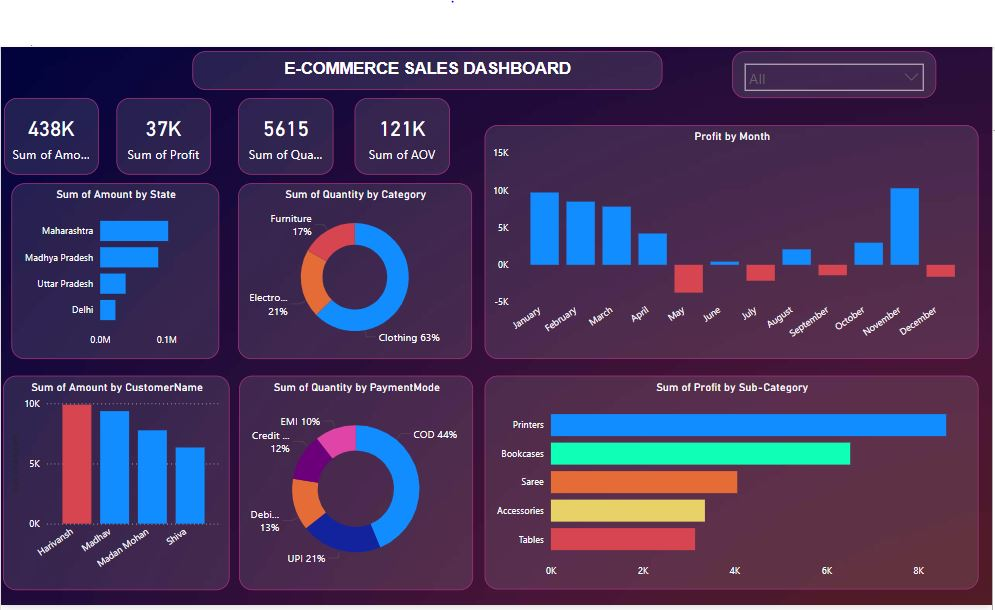

What the dashboard file says about the page in this screenshot:
{"tool":"powerbi","page":{"name":"Page 1","canvas":[1280,720],"ordinal":0},"visuals":[{"type":"columnChart","title":"Profit by Month","fields":{"Y":["Sum(Details.Profit)1"],"Category":["Orders.Order Date.Variation.Date Hierarchy.Month"]},"box":[624.2,100.7,637.6,302],"z":0},{"type":"barChart","fields":{"Category":["Details.Sub-Category"],"Y":["Details.Profit"]},"box":[623.9,424.1,637.5,276.4],"z":1000},{"type":"donutChart","fields":{"Y":["Details.Quantity"],"Category":["Details.PaymentMode"]},"box":[307.4,424.2,302,276.5],"z":2000},{"type":"donutChart","fields":{"Category":["Details.Category"],"Y":["Details.Quantity"]},"box":[306,175.8,302,226.8],"z":3000},{"type":"card","fields":{"Values":["Details.Amount"]},"box":[4,65.8,122.1,99.3],"z":4000},{"type":"card","fields":{"Values":["Details.Profit"]},"box":[149,65.8,122.1,99.3],"z":5000},{"type":"card","fields":{"Values":["Details.Quantity"]},"box":[306,65.8,123.5,99.3],"z":6000},{"type":"card","fields":{"Values":["Details.AOV"]},"box":[456.4,65.8,123.5,99.3],"z":7000},{"type":"barChart","fields":{"Category":["Orders.State"],"Y":["Details.Amount"]},"box":[13.4,175.8,268.5,226.8],"z":8000},{"type":"columnChart","fields":{"Category":["Orders.CustomerName"],"Y":["Details.Amount"]},"box":[2.7,424.2,292.6,276.5],"z":9000},{"type":"slicer","fields":{"Values":["Orders.State"]},"box":[943.6,5.4,263.1,60.4],"z":10000},{"type":"textbox","box":[247,5.4,606.7,49.7],"z":11000}]}

Visuals, with their boxes in screenshot pixels (x1, y1, x2, y2):
"Profit by Month" columnChart: l=483, t=124, r=990, b=364
barChart - Details.Sub-Category x Details.Profit: l=483, t=381, r=990, b=601
donutChart - Details.Quantity x Details.PaymentMode: l=231, t=381, r=471, b=601
donutChart - Details.Category x Details.Quantity: l=230, t=184, r=470, b=364
card - Details.Amount: l=0, t=96, r=87, b=175
card - Details.Profit: l=105, t=96, r=203, b=175
card - Details.Quantity: l=230, t=96, r=328, b=175
card - Details.AOV: l=350, t=96, r=448, b=175
barChart - Orders.State x Details.Amount: l=0, t=184, r=211, b=364
columnChart - Orders.CustomerName x Details.Amount: l=0, t=381, r=222, b=601
slicer - Orders.State: l=737, t=48, r=946, b=96
textbox: l=183, t=48, r=666, b=88
